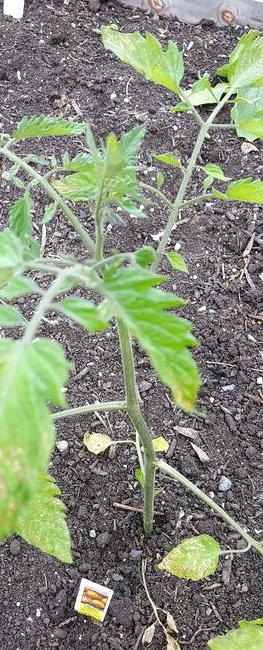Tomato leaf bacterial spot: (0, 304, 76, 606), (92, 260, 214, 415), (94, 18, 189, 105), (211, 27, 263, 104)
